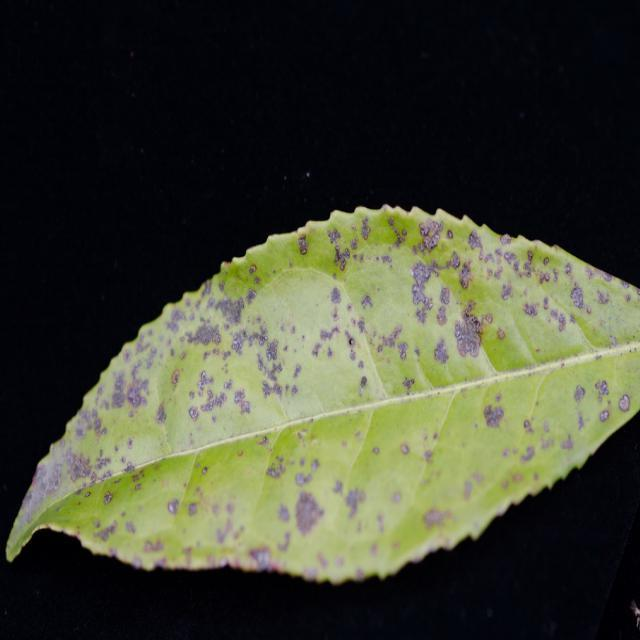Tea red rust: (2, 223, 600, 574)
